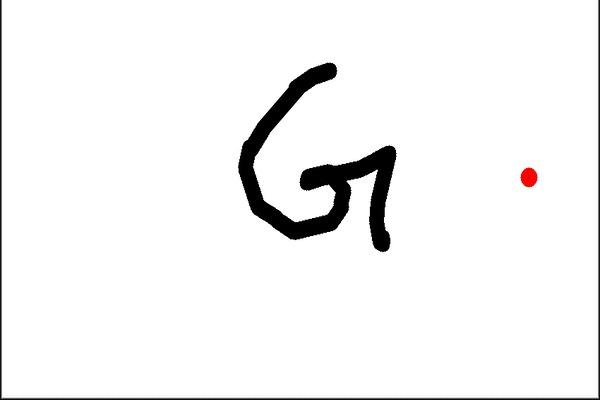G: (231, 58, 402, 259)
